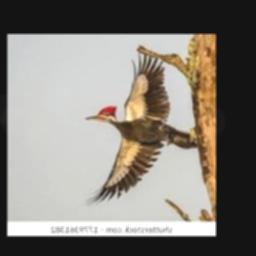Woodpecker: (82, 52, 200, 208)
